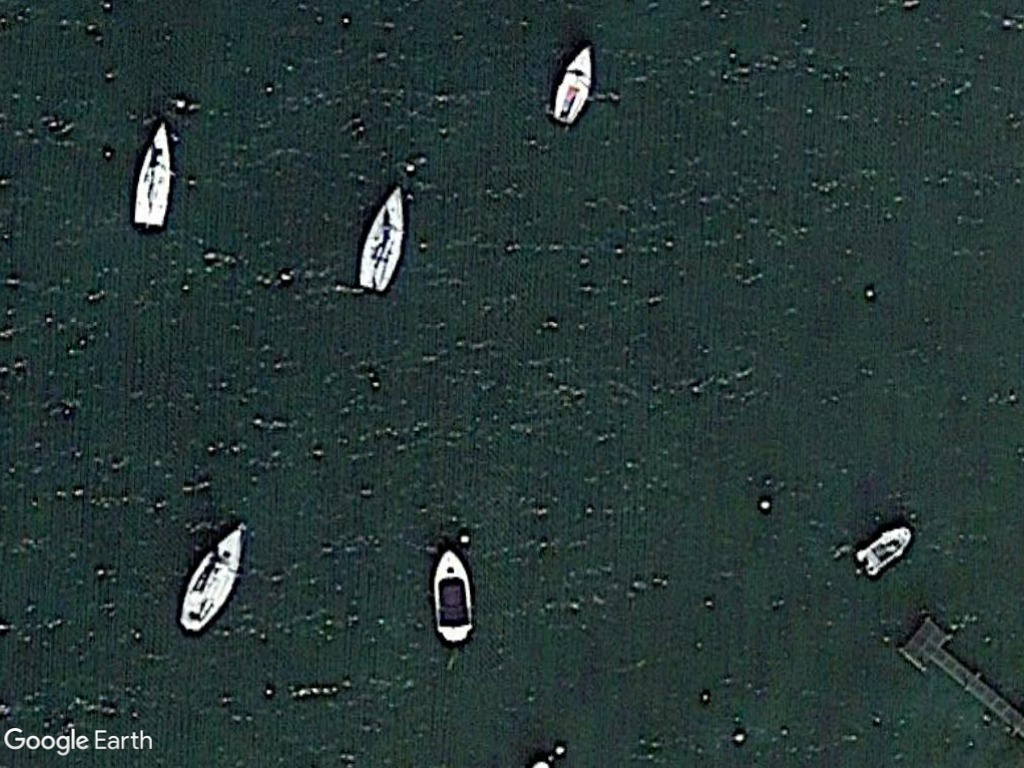boat: (176, 519, 246, 635), (354, 180, 408, 298), (128, 115, 170, 230), (427, 547, 474, 645), (551, 39, 593, 126), (853, 521, 915, 578)
